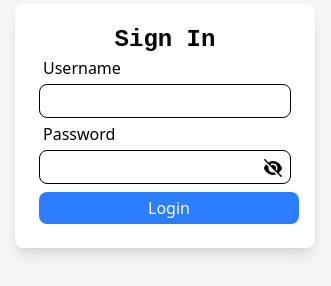
Scenario: Login › When try to login with wrong credentials
Step 1. Type "some text" into the field with test id "username" → (165, 101), box [39, 84, 291, 118]
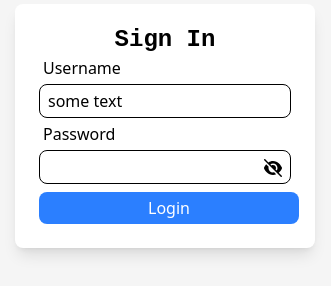
Step 2. Type "some text" into the password field with test id "password" → (165, 167), box [39, 150, 291, 184]
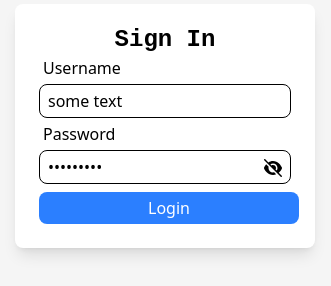
Step 3. Click the button with test id "submit-bth" → (169, 208), box [39, 192, 299, 224]
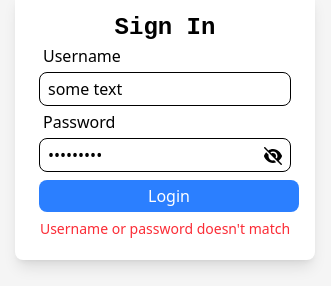
Now the text with test id "error-message" reads "Username or password doesn't match", box [40, 219, 290, 238]
